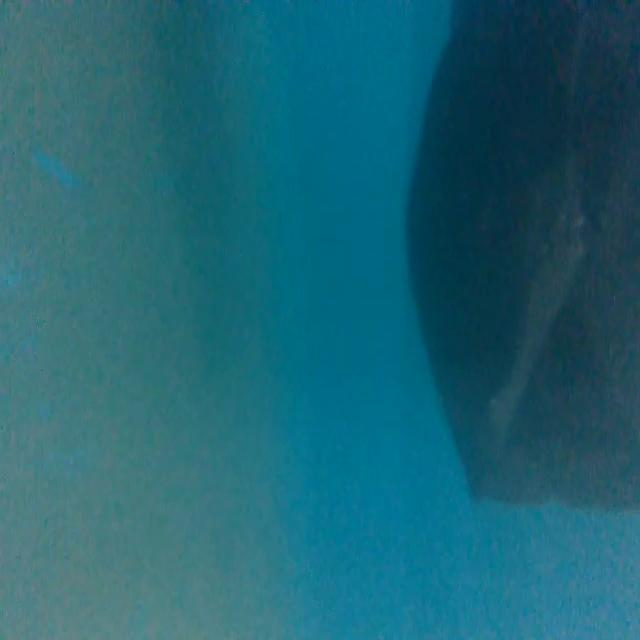plastic bags: (401, 5, 640, 511)
